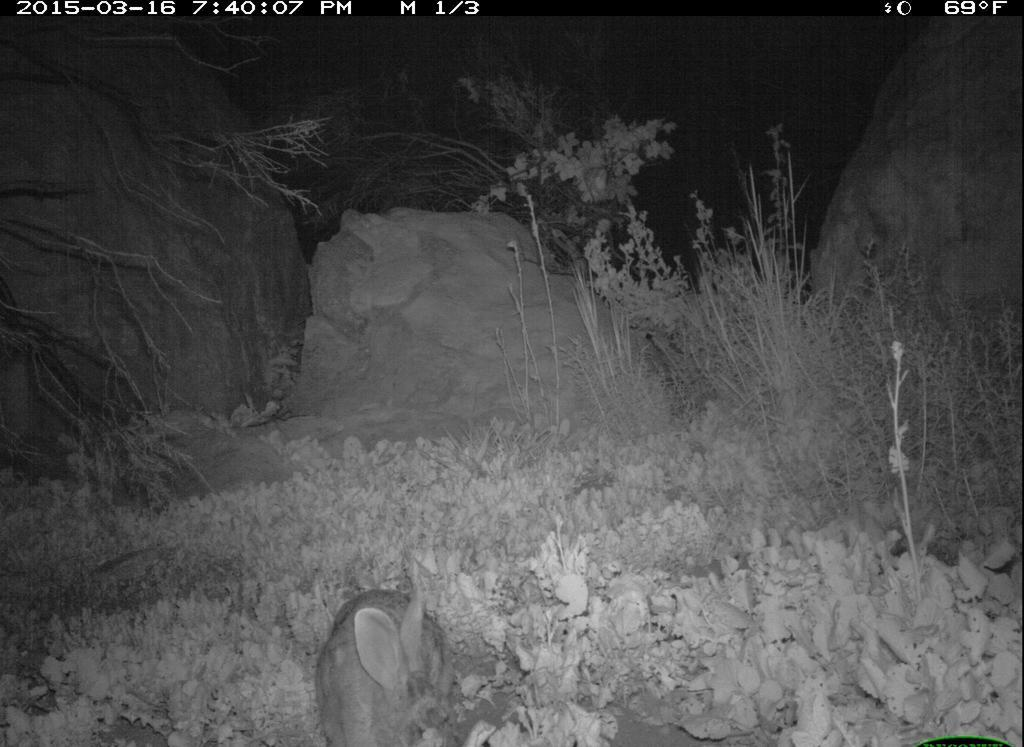rabbit: (315, 575, 474, 747)
